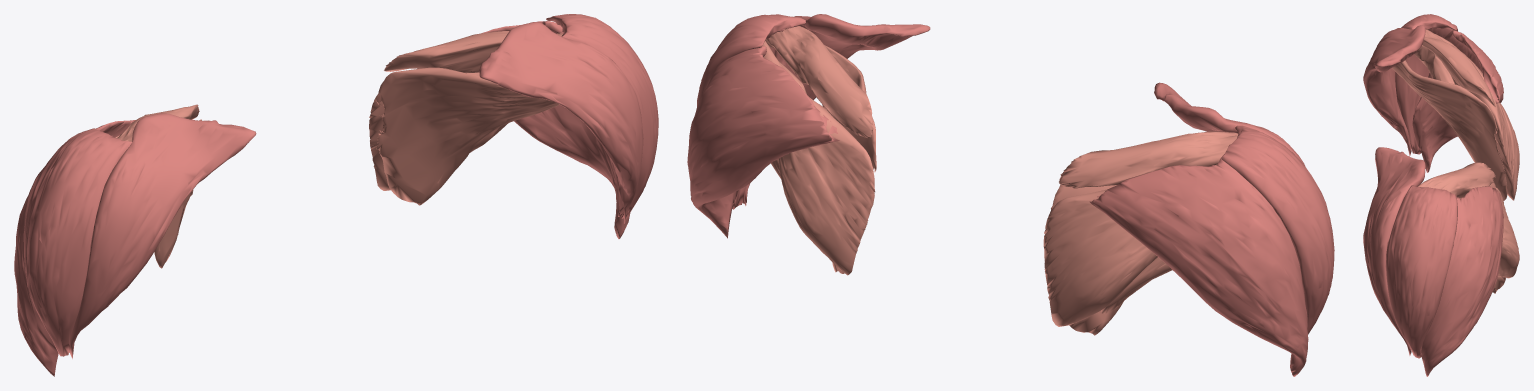
Rendered from z-anatomy-shoulder-muscles.glb.
3 renders of one model, left to right at view 1: azimuth 30°, elevation 25°; view 2: azimuth 150°, elevation 25°; view 3: azimuth 270°, elevation 25°, orthographic. The views are drawn at different scales.
Parts seen in each view (by area): view 1: deltoid-muscles-clavicular-part-of-deltoid-muscle-right__Cla, rotator-cuff-muscles-subscapularis-muscle-left__Subscapulari, deltoid-muscles-acromial-part-of-deltoid-muscle-right__Acrom, deltoid-muscles-clavicular-part-of-deltoid-muscle-left__Clav, deltoid-muscles-acromial-part-of-deltoid-muscle-left__Acromi, deltoid-muscles-scapular-spinal-part-of-deltoid-muscle-left_, deltoid-muscles-scapular-spinal-part-of-deltoid-muscle-right, rotator-cuff-muscles-supraspinatus-muscle-left__Supraspinatu, rotator-cuff-muscles-infraspinatus-muscle-left__Infraspinatu, rotator-cuff-muscles-subscapularis-muscle-right__Subscapular, rotator-cuff-muscles-supraspinatus-muscle-right__Supraspinat; view 2: deltoid-muscles-scapular-spinal-part-of-deltoid-muscle-right, deltoid-muscles-scapular-spinal-part-of-deltoid-muscle-left_, rotator-cuff-muscles-infraspinatus-muscle-left__Infraspinatu, rotator-cuff-muscles-infraspinatus-muscle-right__Infraspinat, deltoid-muscles-acromial-part-of-deltoid-muscle-right__Acrom, rotator-cuff-muscles-supraspinatus-muscle-right__Supraspinat, rotator-cuff-muscles-supraspinatus-muscle-left__Supraspinatu, deltoid-muscles-clavicular-part-of-deltoid-muscle-left__Clav, deltoid-muscles-acromial-part-of-deltoid-muscle-left__Acromi, deltoid-muscles-clavicular-part-of-deltoid-muscle-right__Cla, rotator-cuff-muscles-subscapularis-muscle-right__Subscapular, rotator-cuff-muscles-subscapularis-muscle-left__Subscapulari (+1 smaller); view 3: deltoid-muscles-acromial-part-of-deltoid-muscle-left__Acromi, deltoid-muscles-scapular-spinal-part-of-deltoid-muscle-left_, deltoid-muscles-clavicular-part-of-deltoid-muscle-left__Clav, rotator-cuff-muscles-subscapularis-muscle-right__Subscapular, deltoid-muscles-clavicular-part-of-deltoid-muscle-right__Cla, deltoid-muscles-scapular-spinal-part-of-deltoid-muscle-right, deltoid-muscles-acromial-part-of-deltoid-muscle-right__Acrom, rotator-cuff-muscles-infraspinatus-muscle-right__Infraspinat, rotator-cuff-muscles-supraspinatus-muscle-right__Supraspinat, rotator-cuff-muscles-supraspinatus-muscle-left__Supraspinatu, rotator-cuff-muscles-infraspinatus-muscle-left__Infraspinatu, rotator-cuff-muscles-teres-minor-muscle-right__Teres minor m (+1 smaller).
Boxes of the visible parts, box(x1,y1,x2,y2) form: deltoid-muscles-clavicular-part-of-deltoid-muscle-right__Cla: box(69, 113, 256, 358); rotator-cuff-muscles-subscapularis-muscle-left__Subscapulari: box(376, 67, 559, 205); deltoid-muscles-acromial-part-of-deltoid-muscle-right__Acrom: box(23, 128, 132, 356); deltoid-muscles-clavicular-part-of-deltoid-muscle-left__Clav: box(479, 21, 643, 223); deltoid-muscles-acromial-part-of-deltoid-muscle-left__Acromi: box(546, 14, 658, 219); deltoid-muscles-scapular-spinal-part-of-deltoid-muscle-left_: box(417, 21, 630, 238); deltoid-muscles-scapular-spinal-part-of-deltoid-muscle-right: box(14, 120, 135, 376); rotator-cuff-muscles-supraspinatus-muscle-left__Supraspinatu: box(384, 31, 562, 73); rotator-cuff-muscles-infraspinatus-muscle-left__Infraspinatu: box(369, 72, 479, 190); rotator-cuff-muscles-subscapularis-muscle-right__Subscapular: box(154, 119, 202, 268); rotator-cuff-muscles-supraspinatus-muscle-right__Supraspinat: box(117, 104, 199, 141); deltoid-muscles-scapular-spinal-part-of-deltoid-muscle-right: box(1089, 157, 1308, 376); deltoid-muscles-scapular-spinal-part-of-deltoid-muscle-left_: box(687, 46, 839, 238); rotator-cuff-muscles-infraspinatus-muscle-left__Infraspinatu: box(762, 40, 875, 275); rotator-cuff-muscles-infraspinatus-muscle-right__Infraspinat: box(1043, 189, 1157, 326); deltoid-muscles-acromial-part-of-deltoid-muscle-right__Acrom: box(1221, 125, 1334, 334); rotator-cuff-muscles-supraspinatus-muscle-right__Supraspinat: box(1059, 131, 1238, 188); rotator-cuff-muscles-supraspinatus-muscle-left__Supraspinatu: box(765, 26, 873, 137); deltoid-muscles-clavicular-part-of-deltoid-muscle-left__Clav: box(744, 14, 930, 205); deltoid-muscles-acromial-part-of-deltoid-muscle-left__Acromi: box(697, 14, 805, 209); deltoid-muscles-clavicular-part-of-deltoid-muscle-right__Cla: box(1154, 82, 1304, 165); rotator-cuff-muscles-subscapularis-muscle-right__Subscapular: box(1051, 164, 1216, 335); rotator-cuff-muscles-subscapularis-muscle-left__Subscapulari: box(822, 45, 876, 273); deltoid-muscles-acromial-part-of-deltoid-muscle-left__Acromi: box(1386, 185, 1457, 358); deltoid-muscles-scapular-spinal-part-of-deltoid-muscle-left_: box(1421, 186, 1503, 376); deltoid-muscles-clavicular-part-of-deltoid-muscle-left__Clav: box(1363, 147, 1425, 355); rotator-cuff-muscles-subscapularis-muscle-right__Subscapular: box(1392, 60, 1507, 200); deltoid-muscles-clavicular-part-of-deltoid-muscle-right__Cla: box(1363, 25, 1425, 156); deltoid-muscles-scapular-spinal-part-of-deltoid-muscle-right: box(1412, 30, 1503, 172); deltoid-muscles-acromial-part-of-deltoid-muscle-right__Acrom: box(1395, 14, 1457, 154); rotator-cuff-muscles-infraspinatus-muscle-right__Infraspinat: box(1435, 34, 1519, 200); rotator-cuff-muscles-supraspinatus-muscle-right__Supraspinat: box(1422, 29, 1495, 106); rotator-cuff-muscles-supraspinatus-muscle-left__Supraspinatu: box(1418, 162, 1495, 198); rotator-cuff-muscles-infraspinatus-muscle-left__Infraspinatu: box(1493, 187, 1519, 278); rotator-cuff-muscles-teres-minor-muscle-right__Teres minor m: box(1414, 45, 1454, 84).
Size of the model in its own units: 0.4699 by 0.173 by 0.1374.
